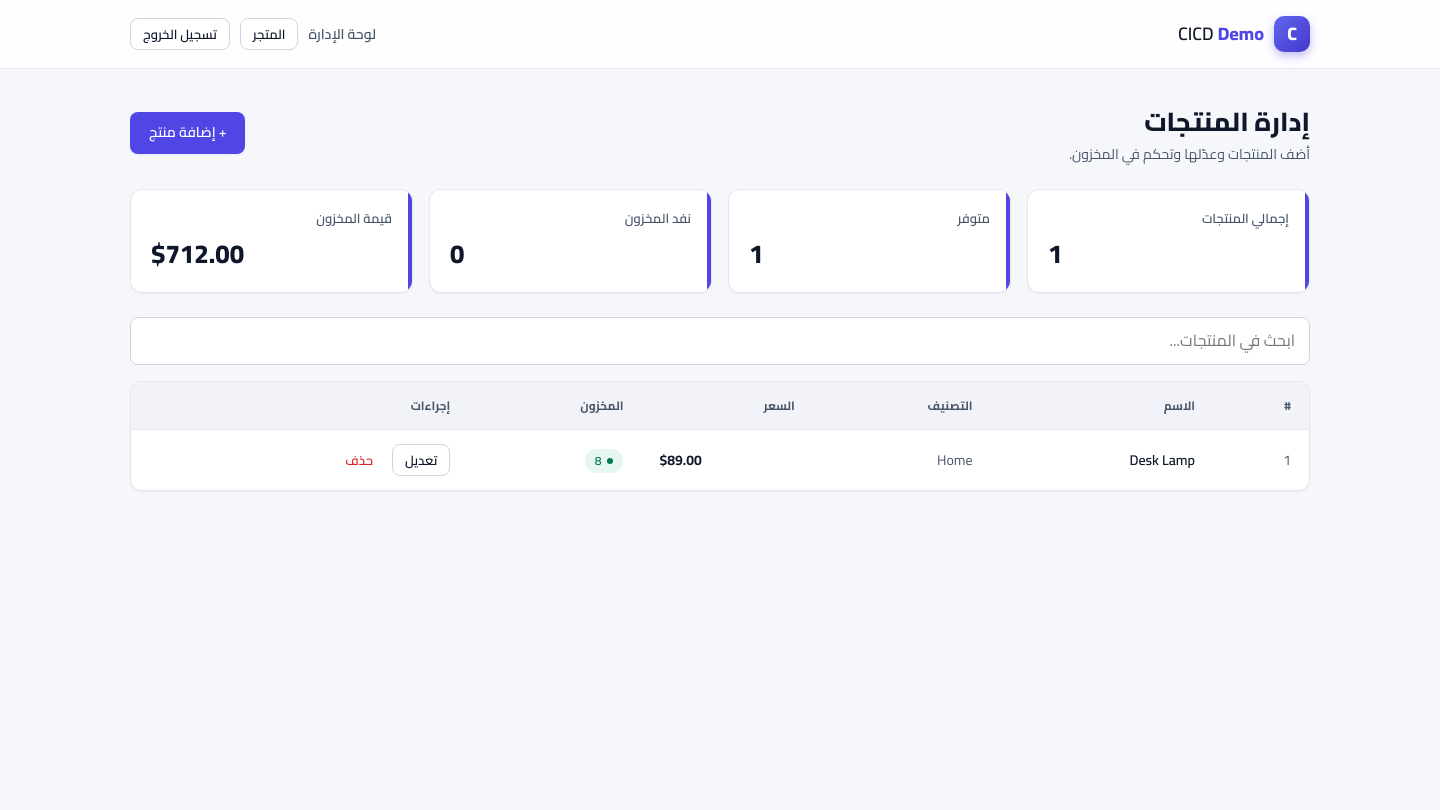
AdminPage › deletes a product after confirmation and reloads the list
Step 1. Click the button with class "btn-ghost-danger" → (359, 460), box 332,444 -> 386,476
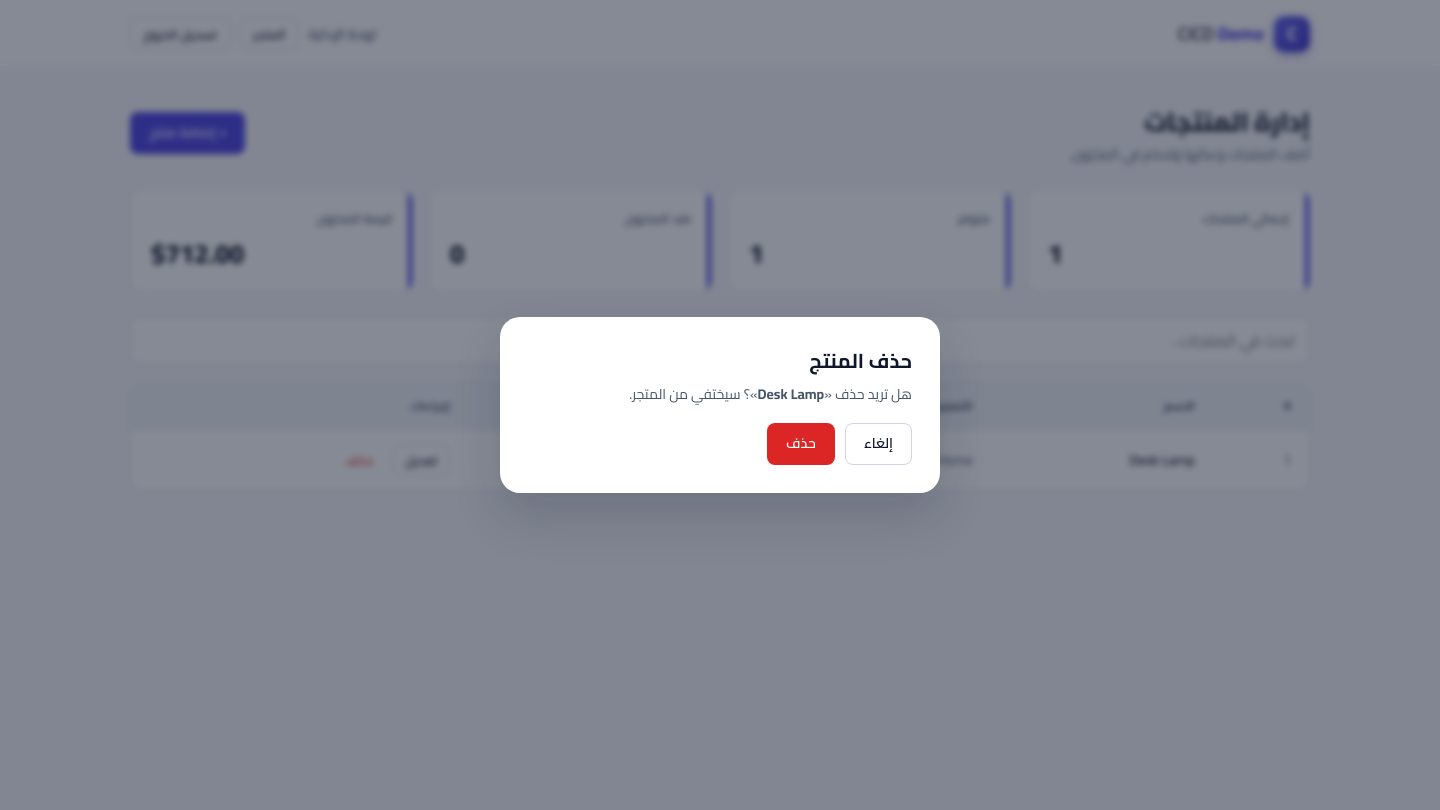
Step 2. Click the button with class "btn-danger" → (801, 444), box 767,423 -> 835,465
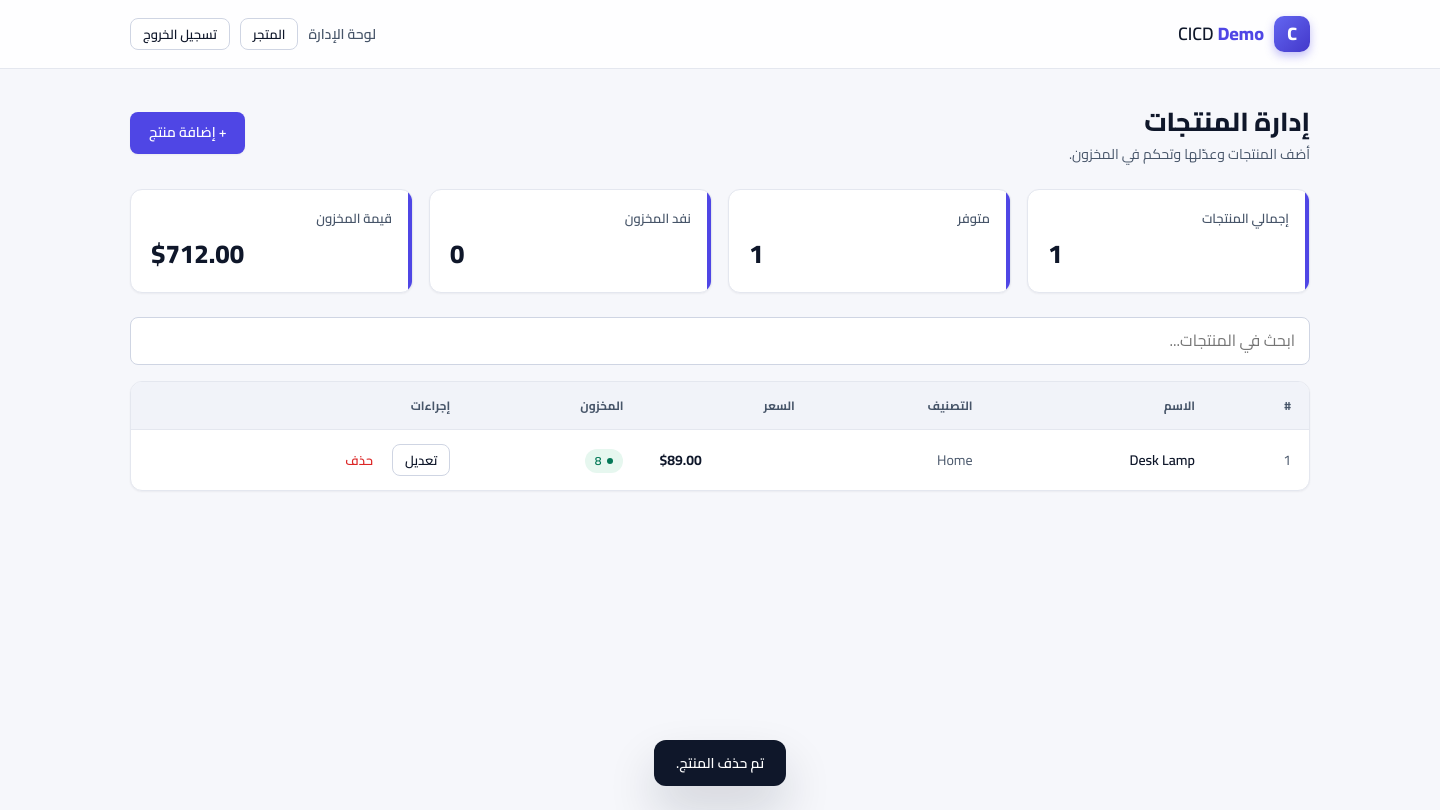
Check: the message with class "toast" shows "تم حذف المنتج", box 676,750 -> 764,776
